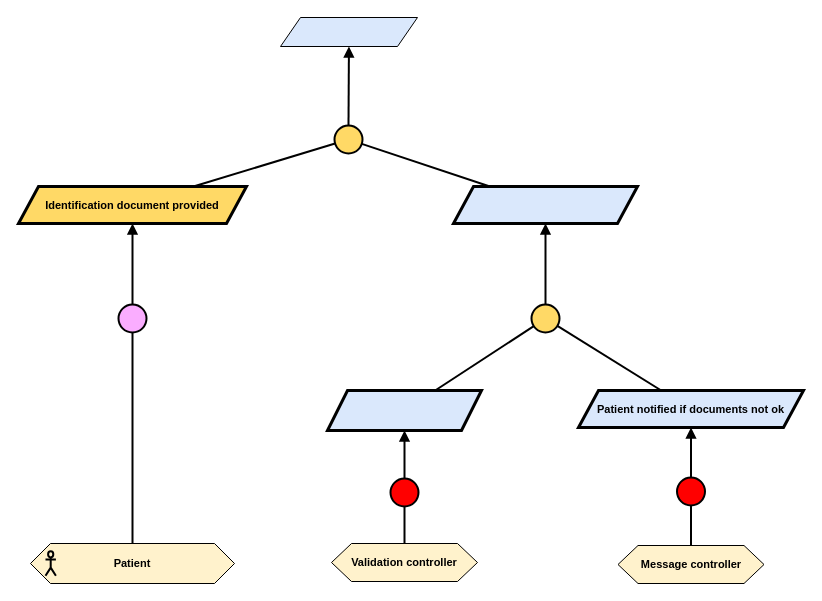
The diagram is 822 pixels wide and 601 high, and some of its shapes have lost their labels. Here are the shapes that lost their labels. From the top down, the centre of each, then its label:
point (349, 31): Register patient
point (545, 204): Documents Validated
point (404, 410): Documents ok
